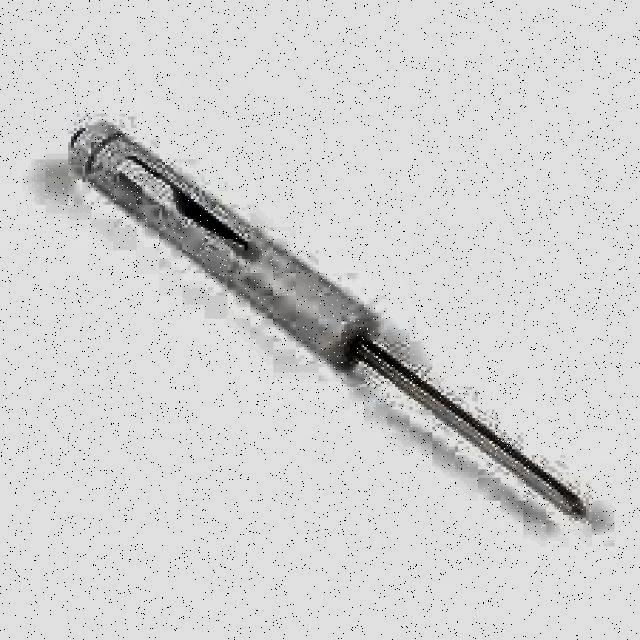screwdriver: (68, 120, 592, 524)
